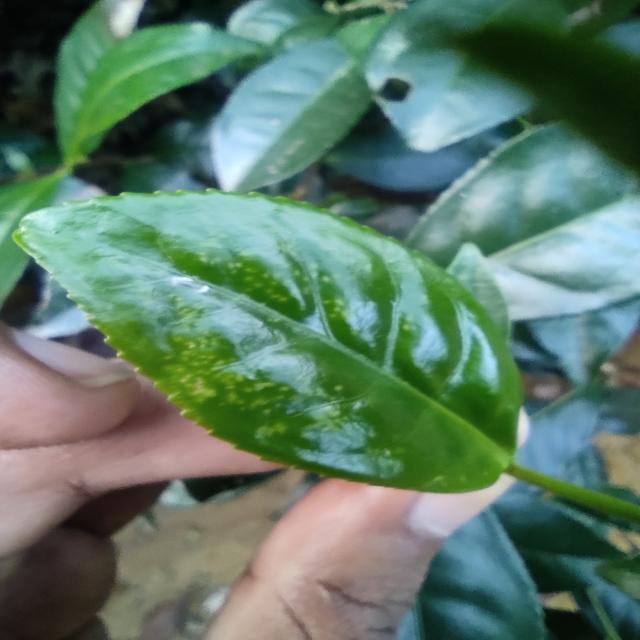Category C(4-7 days): (0, 152, 535, 512)
